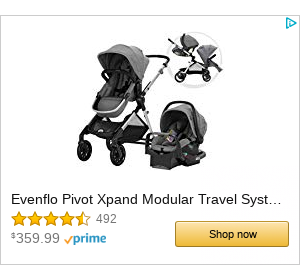fake_button: (165, 214, 296, 257)
